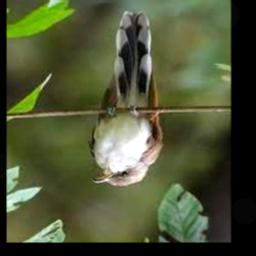Cuckoo: (87, 9, 162, 186)
